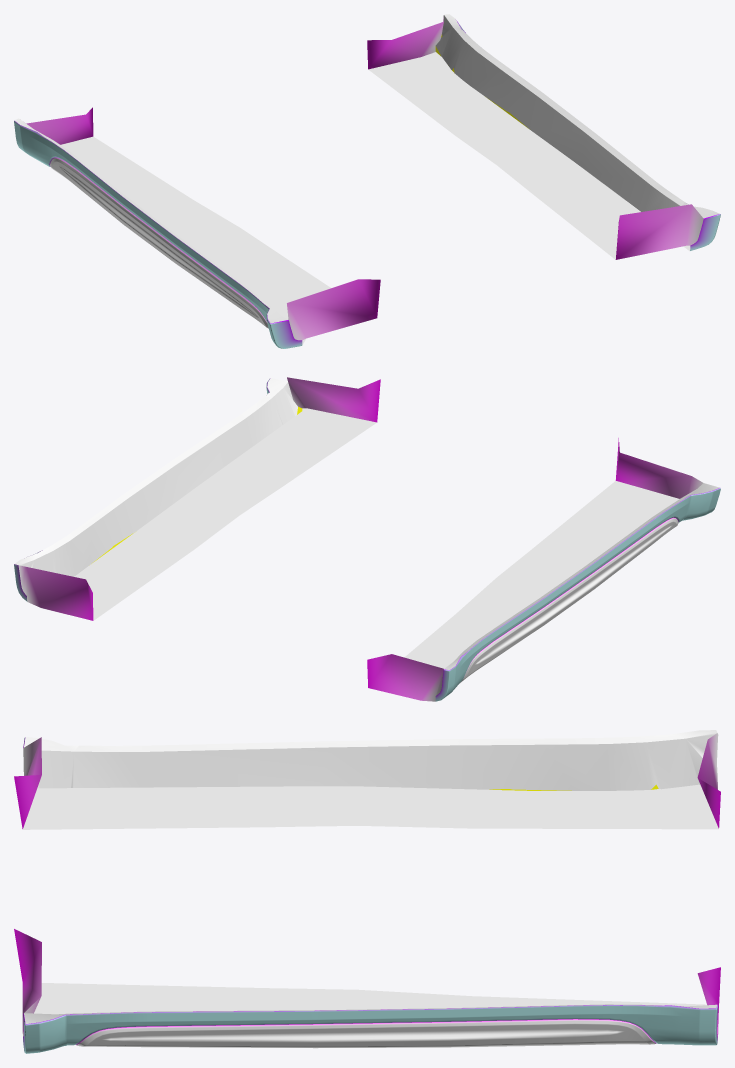
Rendered from Car_Mini_CountrymanJCW_2017_Skirts_SetA_AltC.fbx.
The picture shows the model from 3 angles, top to bottom: view 1: azimuth 30°, elevation 25°; view 2: azimuth 150°, elevation 25°; view 3: azimuth 270°, elevation 25°; orthographic projection. The views are drawn at different scales.
Parts seen in each view (by area): view 1: Skirts 6; view 2: Skirts 6; view 3: Skirts 6.
Part boxes in pixels (x1,y1,x2,y2): Skirts 6: [14, 14, 720, 348]; Skirts 6: [14, 377, 720, 701]; Skirts 6: [14, 730, 720, 1053].
Size of the model in its own units: 1.83 by 0.1973 by 1.9.
